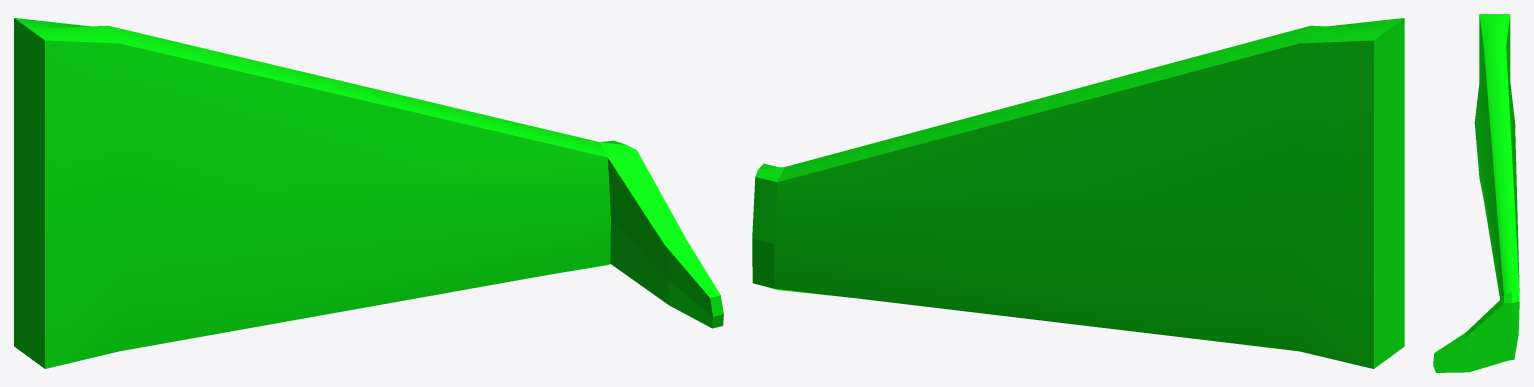
The model's file is Parts_Connect_Wing.fbx.
3 renders of one model, left to right at view 1: azimuth 30°, elevation 25°; view 2: azimuth 150°, elevation 25°; view 3: azimuth 270°, elevation 25°, orthographic. The views are drawn at different scales.
Parts seen in each view (by area): view 1: Box016; view 2: Box016; view 3: Box016.
Boxes of the visible parts, box(x1,y1,x2,y2) form: Box016: box(14, 18, 723, 368); Box016: box(752, 18, 1404, 368); Box016: box(1433, 14, 1519, 372).
Size of the model in its own units: 45.84 by 28.15 by 10.8.
